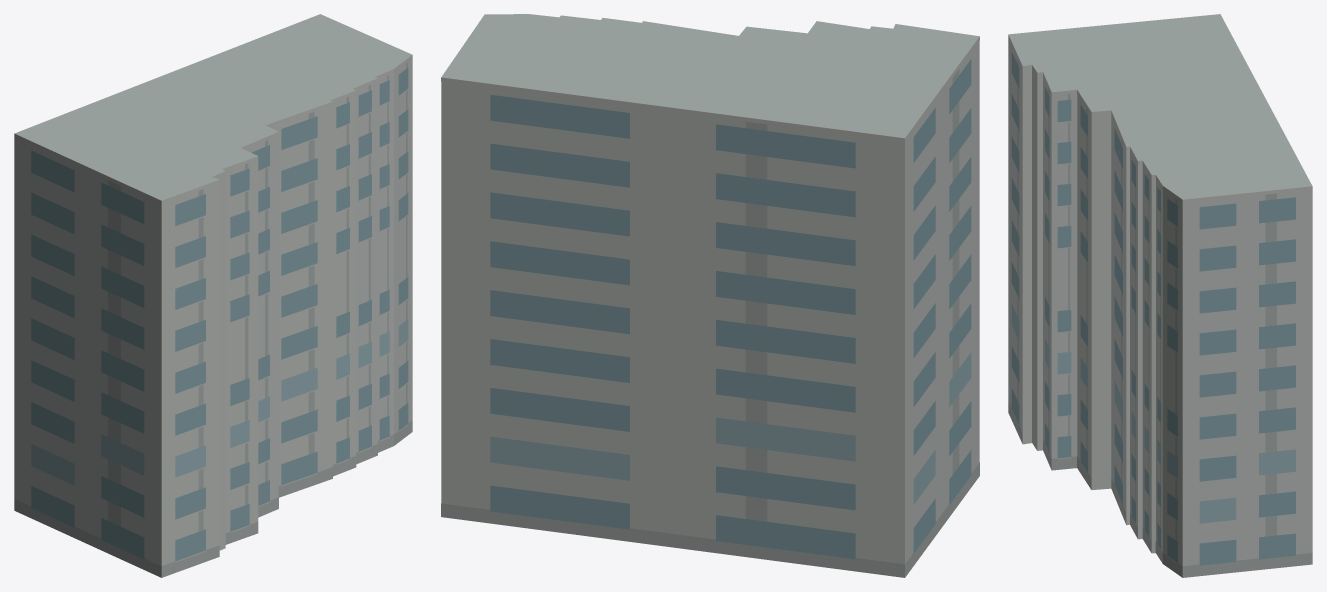
File: survey-upis-33039015.glb
3 views of the same model, side by side, from view 1: azimuth 30°, elevation 25°; view 2: azimuth 150°, elevation 25°; view 3: azimuth 270°, elevation 25° (orthographic). The views are drawn at different scales.
Parts seen in each view (by area): view 1: survey-upis-33039015.tmp; view 2: survey-upis-33039015.tmp; view 3: survey-upis-33039015.tmp.
Boxes of the visible parts, box(x1,y1,x2,y2) form: survey-upis-33039015.tmp: box(14, 14, 412, 577); survey-upis-33039015.tmp: box(441, 14, 979, 577); survey-upis-33039015.tmp: box(1008, 14, 1312, 577).
Bounding box in the file's own units: 27.12 × 25.75 × 18.78.
